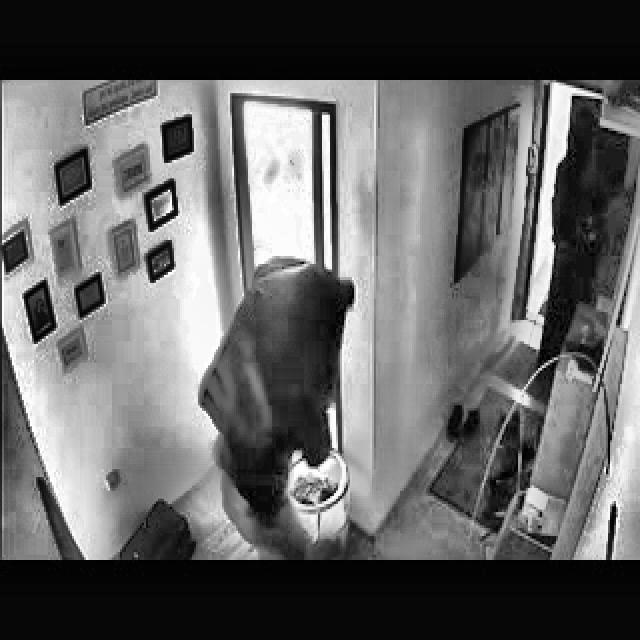burglary: (190, 247, 358, 558)
